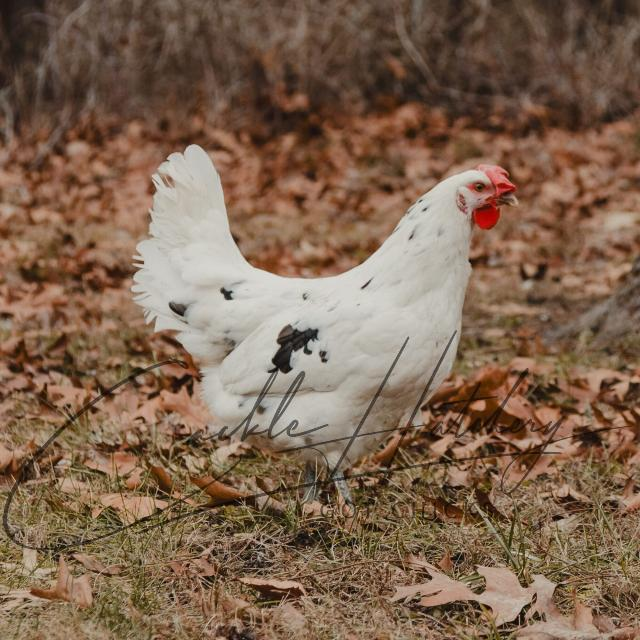Chicken: (133, 146, 521, 473)
